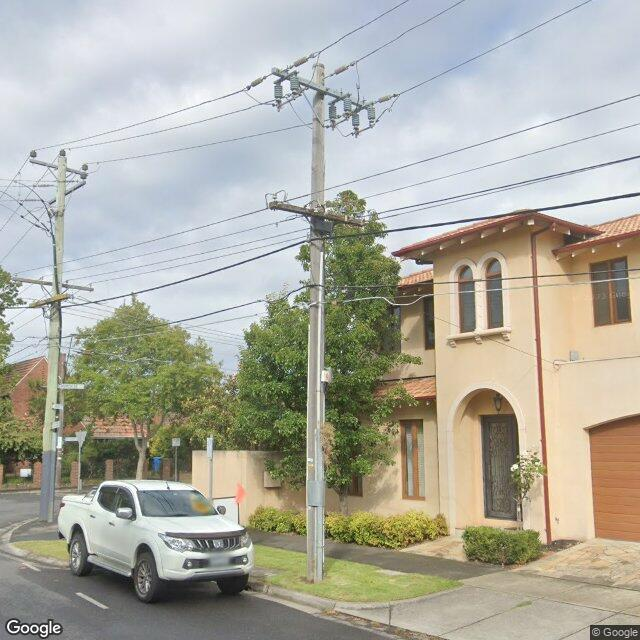HV-transmission: (243, 50, 399, 140), (21, 150, 88, 206)
crossarm: (270, 66, 370, 110), (264, 189, 368, 228), (12, 273, 95, 293), (29, 159, 88, 176), (48, 180, 86, 204), (30, 293, 74, 308)
timber-pole: (39, 156, 68, 524), (305, 62, 325, 581)
